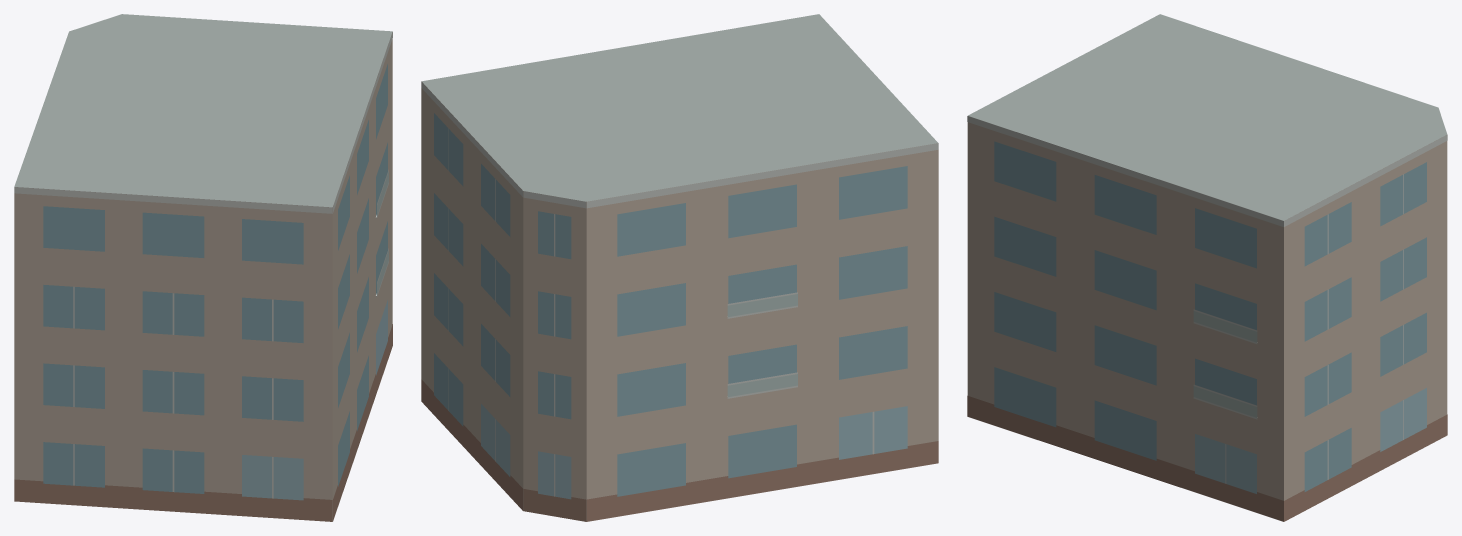
The model's file is survey-upis-32524915.glb.
3 renders of one model, left to right at view 1: azimuth 30°, elevation 25°; view 2: azimuth 150°, elevation 25°; view 3: azimuth 270°, elevation 25°, orthographic. The views are drawn at different scales.
Parts seen in each view (by area): view 1: survey-upis-32524915.tmp; view 2: survey-upis-32524915.tmp; view 3: survey-upis-32524915.tmp.
Part boxes in pixels (x1,y1,x2,y2): survey-upis-32524915.tmp: [14, 14, 392, 521]; survey-upis-32524915.tmp: [421, 14, 938, 521]; survey-upis-32524915.tmp: [967, 14, 1447, 521].
Size of the model in its own units: 17.41 by 11.8 by 17.07.
